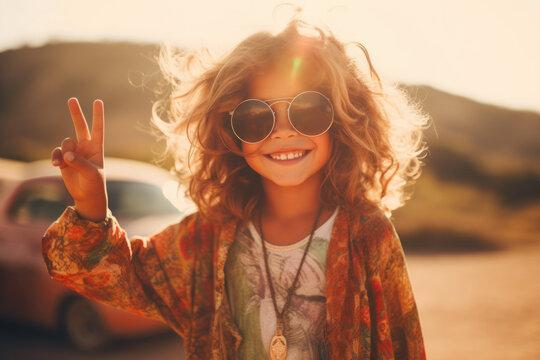peace_sign: (48, 92, 111, 218)
